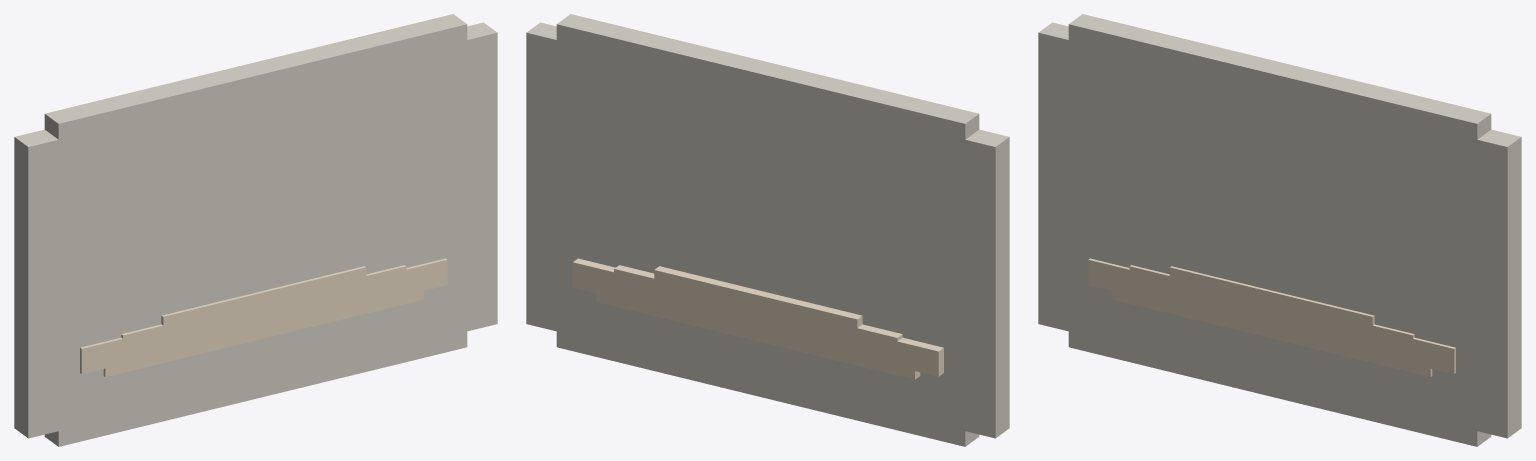
File: MOD_BAKERY_DISPLAY_WINDOW_001_LOD_MAP.glb
3 renders of one model, left to right at view 1: azimuth 30°, elevation 25°; view 2: azimuth 150°, elevation 25°; view 3: azimuth 330°, elevation 25°, orthographic.
Visible parts, largest first — view 1: MOD_BAKERY_DISPLAY_WINDOW_001_DOUBLE_PANE_BAKERY_DISPLAY_WI. (×2), MOD_BAKERY_DISPLAY_WINDOW_001_CORNER_DISPLAY_FRONTAGE_MAP_FR, MOD_BAKERY_DISPLAY_WINDOW_001_CORNER_DISPLAY_FRONTAGE_MAP_DI, MOD_BAKERY_DISPLAY_WINDOW_001_SINGLE_LARGE_DISPLAY_WINDOW_MA (×2), MOD_BAKERY_DISPLAY_WINDOW_001_NARROW_PASTRY_DISPLAY_WINDOW_.; view 2: MOD_BAKERY_DISPLAY_WINDOW_001_DOUBLE_PANE_BAKERY_DISPLAY_WI. (×2), MOD_BAKERY_DISPLAY_WINDOW_001_CORNER_DISPLAY_FRONTAGE_MAP_FR, MOD_BAKERY_DISPLAY_WINDOW_001_SINGLE_LARGE_DISPLAY_WINDOW_MA (×2), MOD_BAKERY_DISPLAY_WINDOW_001_CORNER_DISPLAY_FRONTAGE_MAP_DI, MOD_BAKERY_DISPLAY_WINDOW_001_NARROW_PASTRY_DISPLAY_WINDOW_., MOD_BAKERY_DISPLAY_WINDOW_001_NARROW_PASTRY_DISPLAY_WINDOW_M; view 3: MOD_BAKERY_DISPLAY_WINDOW_001_DOUBLE_PANE_BAKERY_DISPLAY_WI. (×2), MOD_BAKERY_DISPLAY_WINDOW_001_CORNER_DISPLAY_FRONTAGE_MAP_FR, MOD_BAKERY_DISPLAY_WINDOW_001_SINGLE_LARGE_DISPLAY_WINDOW_MA (×2), MOD_BAKERY_DISPLAY_WINDOW_001_CORNER_DISPLAY_FRONTAGE_MAP_DI, MOD_BAKERY_DISPLAY_WINDOW_001_NARROW_PASTRY_DISPLAY_WINDOW_..
Part boxes in pixels (left/top/right/bottom): MOD_BAKERY_DISPLAY_WINDOW_001_DOUBLE_PANE_BAKERY_DISPLAY_WI. (×2): left=14, top=22, right=497, bottom=438; MOD_BAKERY_DISPLAY_WINDOW_001_CORNER_DISPLAY_FRONTAGE_MAP_FR: left=44, top=14, right=467, bottom=446; MOD_BAKERY_DISPLAY_WINDOW_001_CORNER_DISPLAY_FRONTAGE_MAP_DI: left=103, top=274, right=423, bottom=377; MOD_BAKERY_DISPLAY_WINDOW_001_SINGLE_LARGE_DISPLAY_WINDOW_MA (×2): left=81, top=97, right=436, bottom=358; MOD_BAKERY_DISPLAY_WINDOW_001_NARROW_PASTRY_DISPLAY_WINDOW_.: left=161, top=266, right=366, bottom=340; MOD_BAKERY_DISPLAY_WINDOW_001_DOUBLE_PANE_BAKERY_DISPLAY_WI. (×2): left=526, top=22, right=1009, bottom=438; MOD_BAKERY_DISPLAY_WINDOW_001_CORNER_DISPLAY_FRONTAGE_MAP_FR: left=556, top=14, right=979, bottom=446; MOD_BAKERY_DISPLAY_WINDOW_001_SINGLE_LARGE_DISPLAY_WINDOW_MA (×2): left=580, top=53, right=940, bottom=362; MOD_BAKERY_DISPLAY_WINDOW_001_CORNER_DISPLAY_FRONTAGE_MAP_DI: left=596, top=277, right=920, bottom=379; MOD_BAKERY_DISPLAY_WINDOW_001_NARROW_PASTRY_DISPLAY_WINDOW_.: left=654, top=266, right=862, bottom=327; MOD_BAKERY_DISPLAY_WINDOW_001_NARROW_PASTRY_DISPLAY_WINDOW_M: left=631, top=81, right=890, bottom=334; MOD_BAKERY_DISPLAY_WINDOW_001_DOUBLE_PANE_BAKERY_DISPLAY_WI. (×2): left=1038, top=22, right=1521, bottom=438; MOD_BAKERY_DISPLAY_WINDOW_001_CORNER_DISPLAY_FRONTAGE_MAP_FR: left=1068, top=14, right=1491, bottom=446; MOD_BAKERY_DISPLAY_WINDOW_001_SINGLE_LARGE_DISPLAY_WINDOW_MA (×2): left=1096, top=61, right=1454, bottom=360; MOD_BAKERY_DISPLAY_WINDOW_001_CORNER_DISPLAY_FRONTAGE_MAP_DI: left=1112, top=274, right=1432, bottom=377; MOD_BAKERY_DISPLAY_WINDOW_001_NARROW_PASTRY_DISPLAY_WINDOW_.: left=1169, top=266, right=1374, bottom=341.
Bounding box in the file's own units: 3.1 × 2.04 × 0.24.
